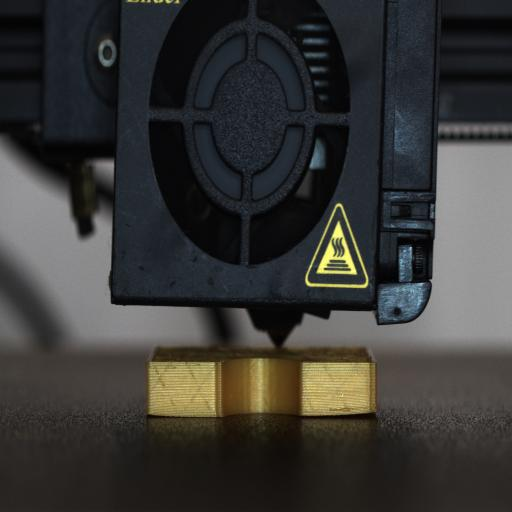warp: (315, 404, 381, 420), (144, 408, 176, 422)
